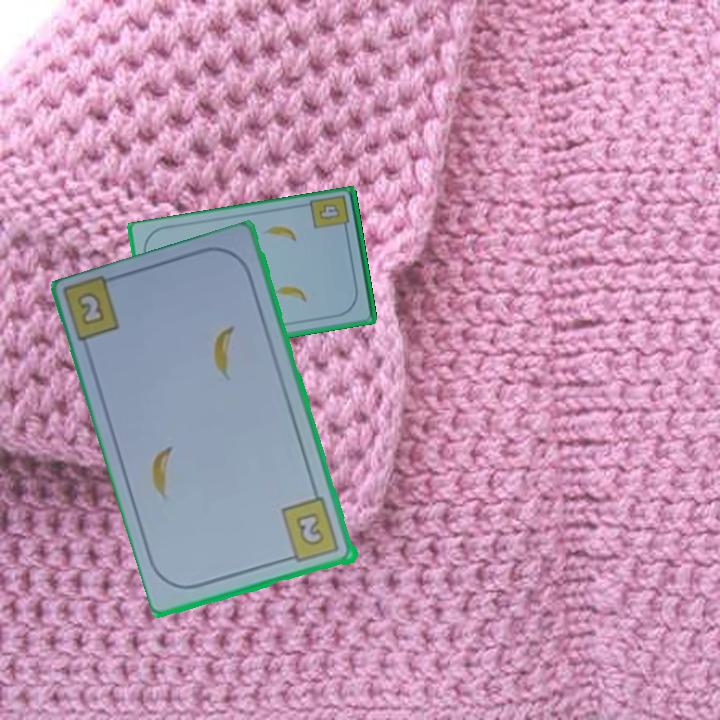2b: (278, 494, 343, 566), (77, 291, 105, 325)
4b: (307, 192, 352, 237)
